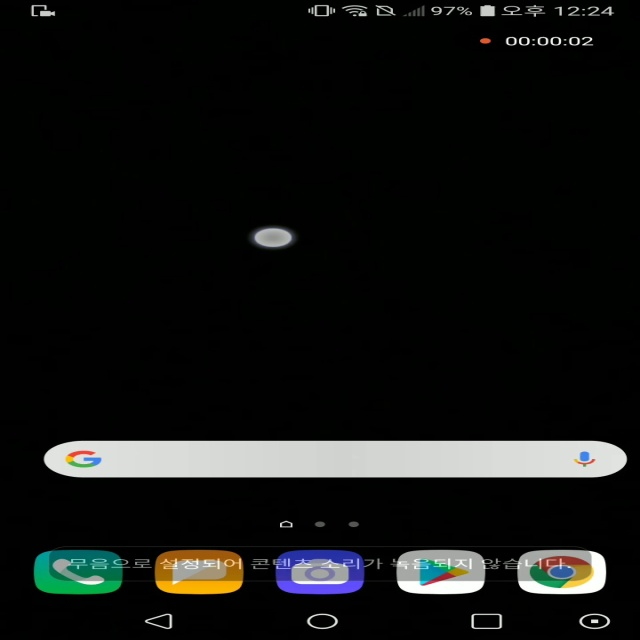Cursor: (251, 227, 296, 249)
